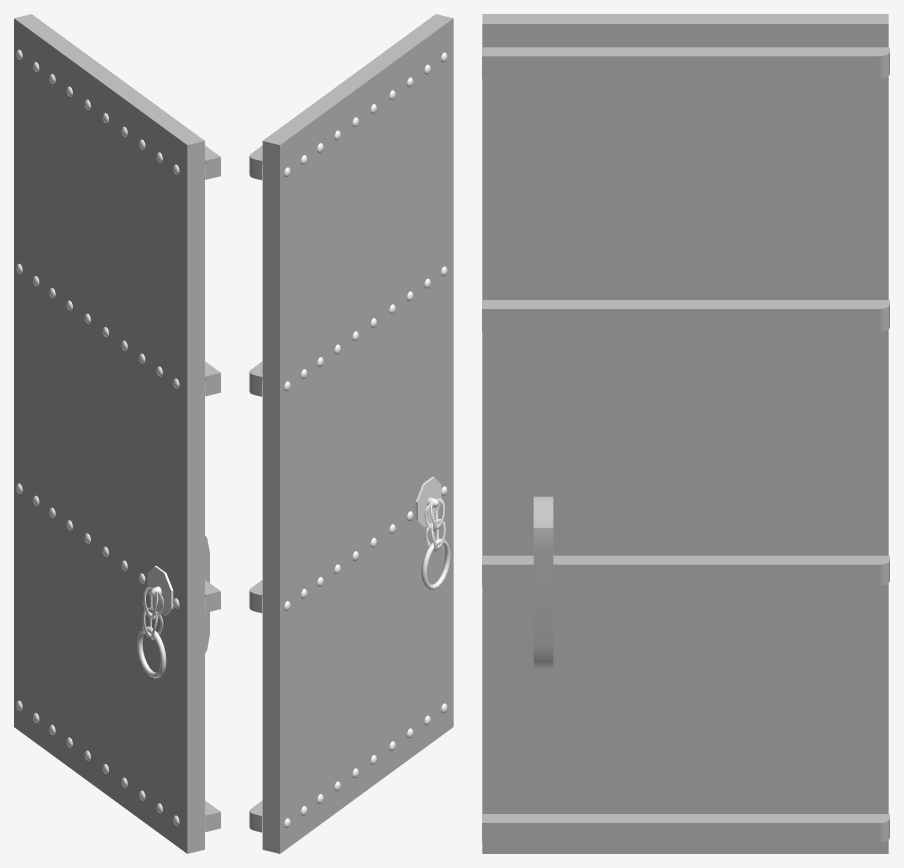
File: SM_D_Gate_1.fbx
3 views of the same model, side by side, from view 1: azimuth 30°, elevation 25°; view 2: azimuth 150°, elevation 25°; view 3: azimuth 270°, elevation 25° (orthographic). The views are drawn at different scales.
Visible parts, largest first — view 1: SM_D_Gate_1_LOD0; view 2: SM_D_Gate_1_LOD0; view 3: SM_D_Gate_1_LOD0.
Part boxes in pixels (bbox=[...]): SM_D_Gate_1_LOD0: bbox=[14, 14, 220, 853]; SM_D_Gate_1_LOD0: bbox=[249, 14, 453, 853]; SM_D_Gate_1_LOD0: bbox=[482, 14, 889, 853].
Size of the model in its own units: 37.49 by 197 by 443.
